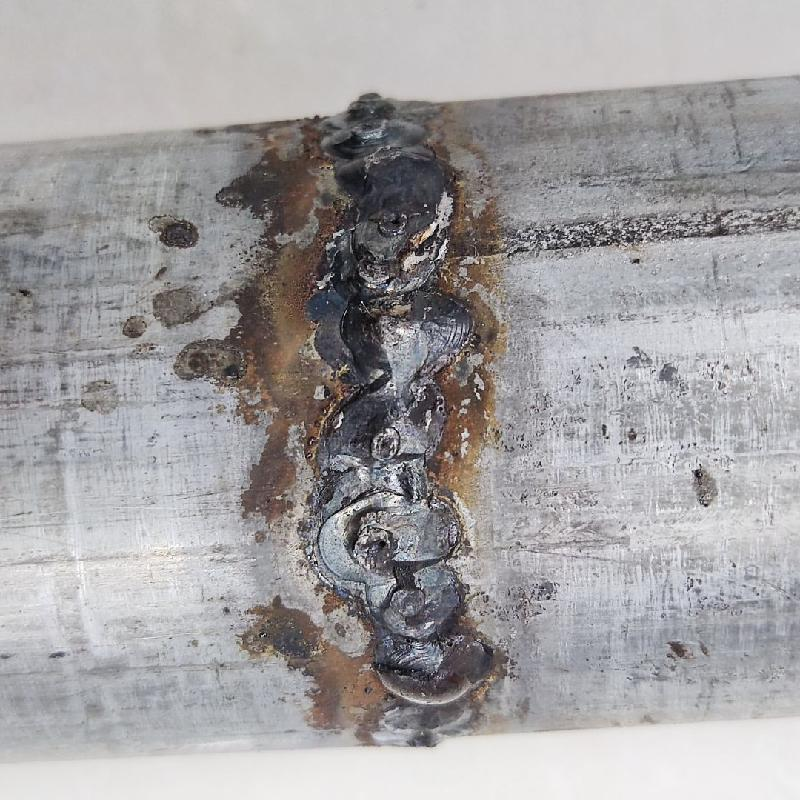Surface_pores: (349, 531, 404, 570), (368, 425, 414, 463), (378, 204, 417, 236)
Weld: (369, 642, 484, 707)
wrong_size: (311, 86, 493, 746)
